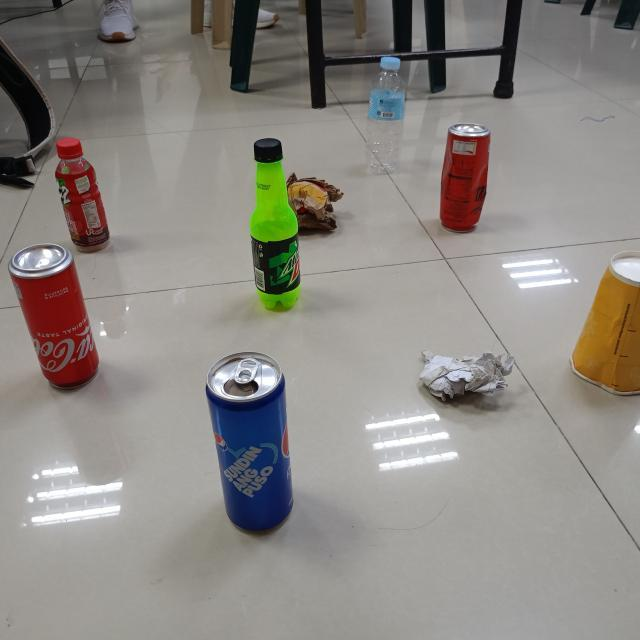recyclable waste: (198, 346, 302, 538), (3, 236, 106, 398), (562, 242, 640, 403), (245, 131, 306, 317), (48, 132, 119, 258), (433, 116, 496, 237), (413, 342, 521, 406), (361, 50, 411, 178), (279, 168, 347, 236)
